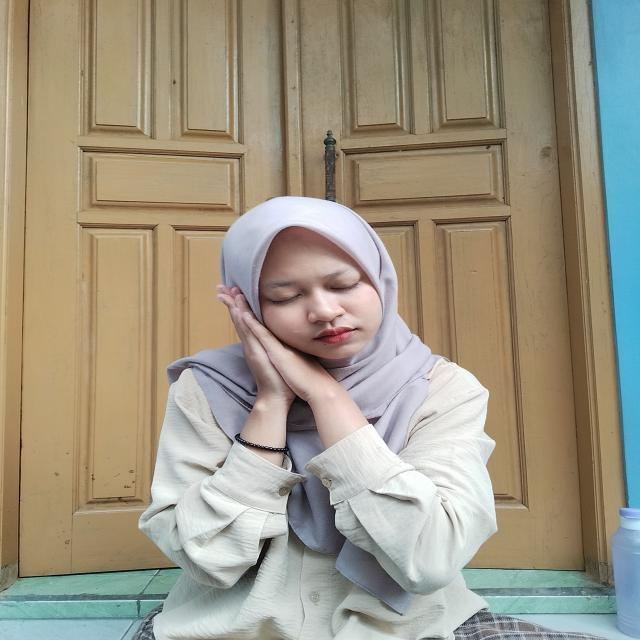tidur: (199, 277, 362, 459)
